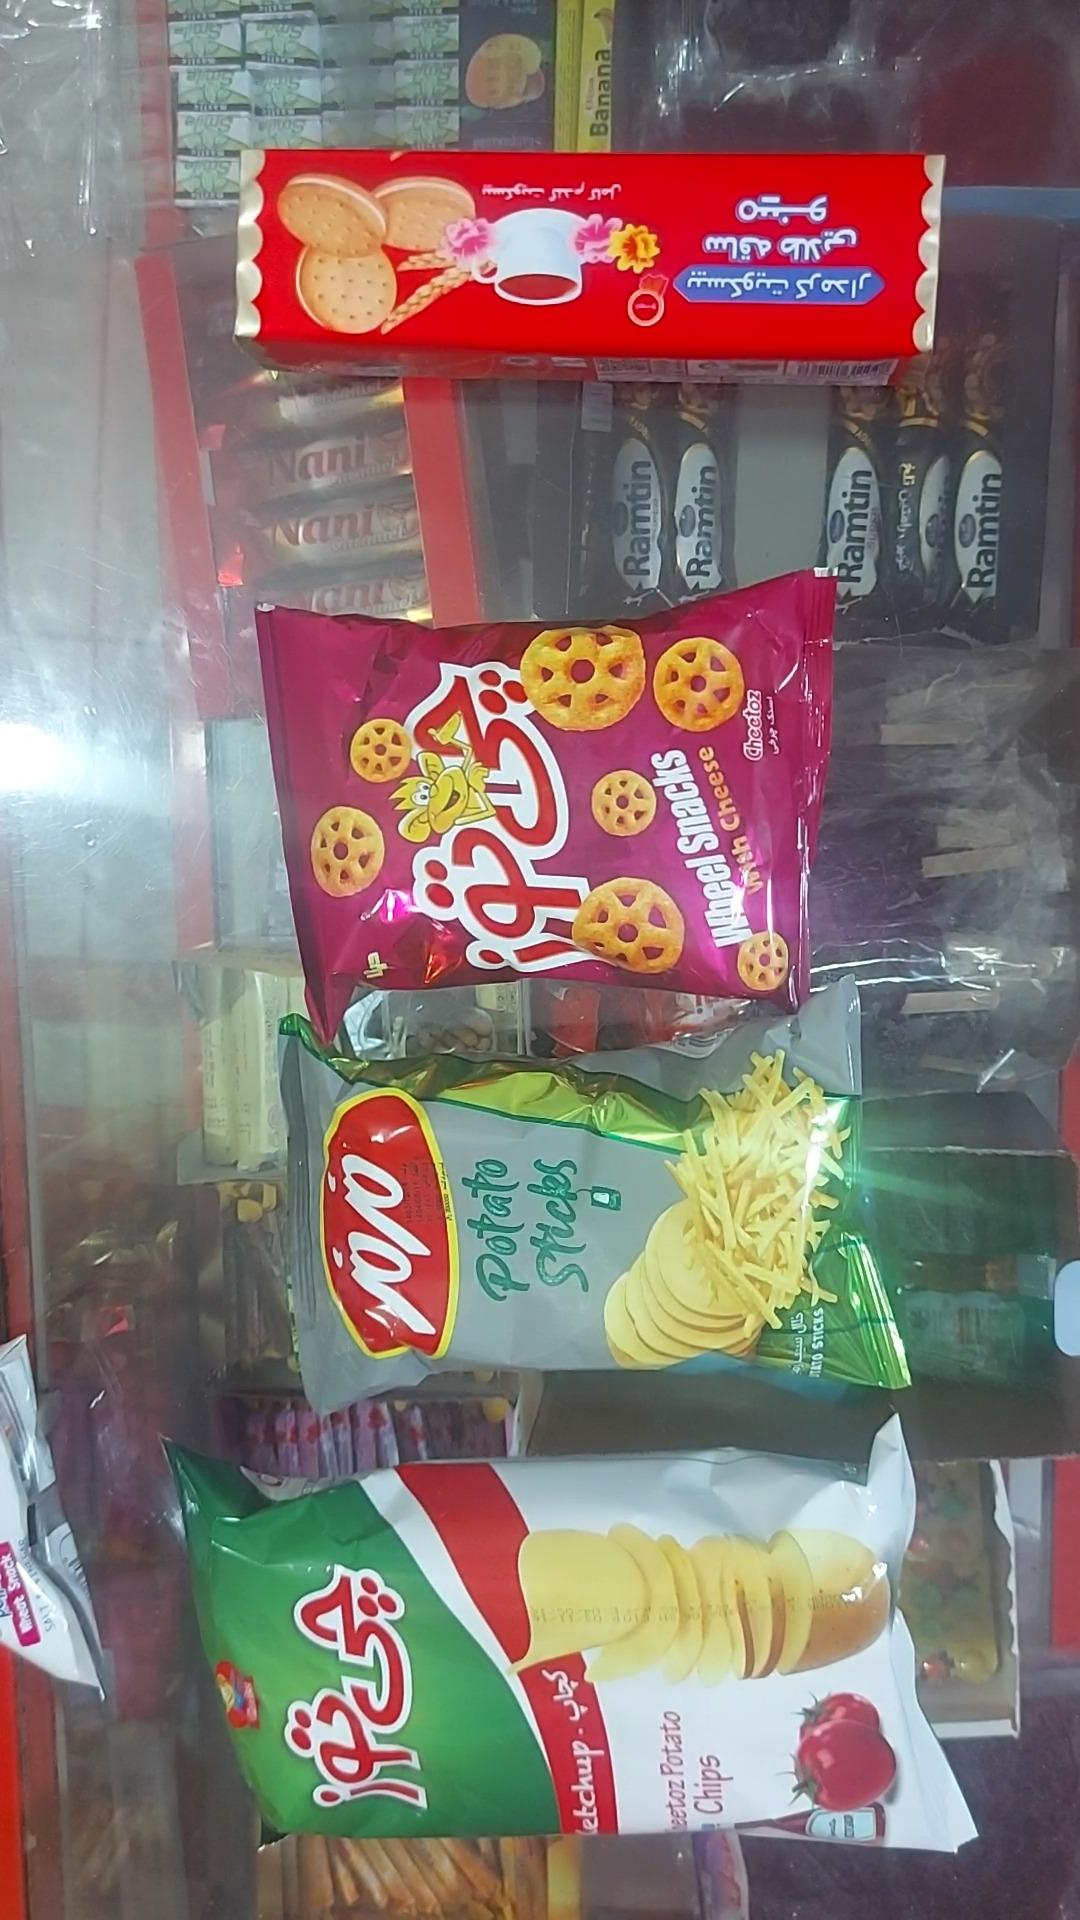Cheetoz ketchup chips: (170, 1416, 976, 1851)
Cheetoz wheelsnack: (255, 574, 835, 1042)
Maz Maz potato sticks: (280, 975, 909, 1414)
Minoo cream biscuit: (235, 149, 943, 368)
